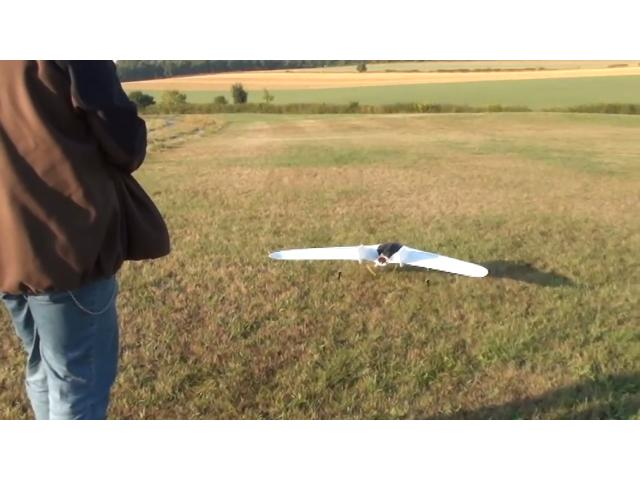Anti-Drone: (214, 212, 560, 308)
